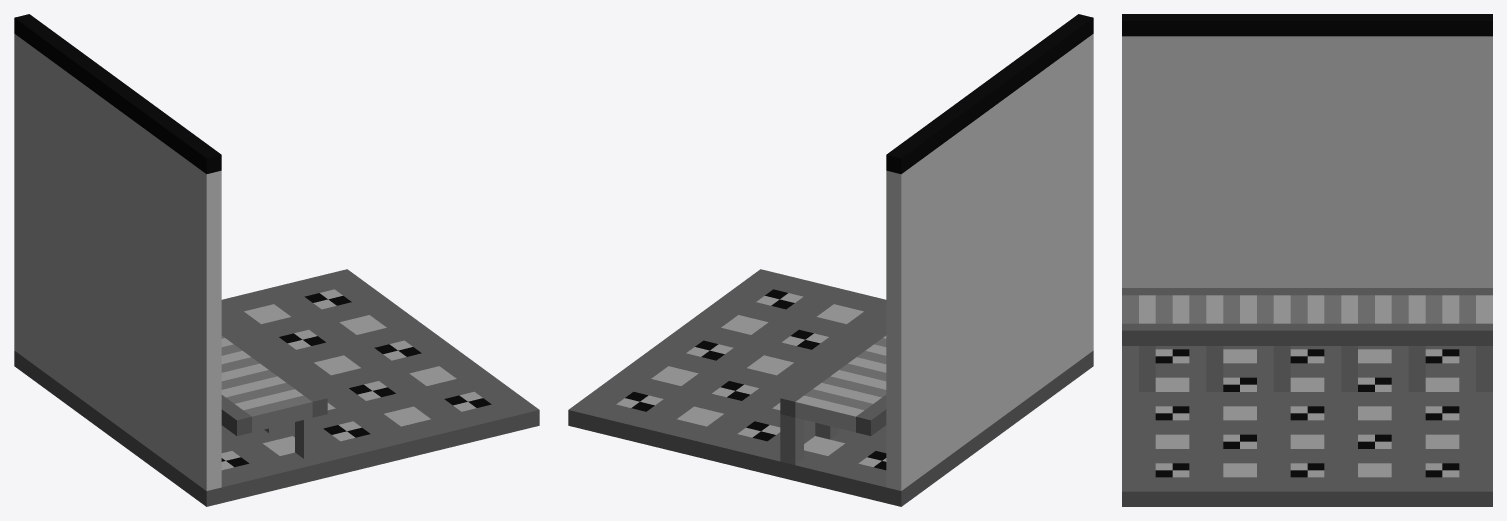
File: level_one-5.obj
The picture shows the model from 3 angles, left to right: view 1: azimuth 30°, elevation 25°; view 2: azimuth 150°, elevation 25°; view 3: azimuth 270°, elevation 25°; orthographic projection. The views are drawn at different scales.
Visible parts, largest first — view 1: level_one-5; view 2: level_one-5; view 3: level_one-5.
Part boxes in pixels (x1,y1,x2,y2): level_one-5: (14,14,539,506); level_one-5: (568,14,1093,506); level_one-5: (1122,14,1492,506).
Bounding box in the file's own units: 22 × 22 × 22.
Materials: 1 (1 with a texture image).
